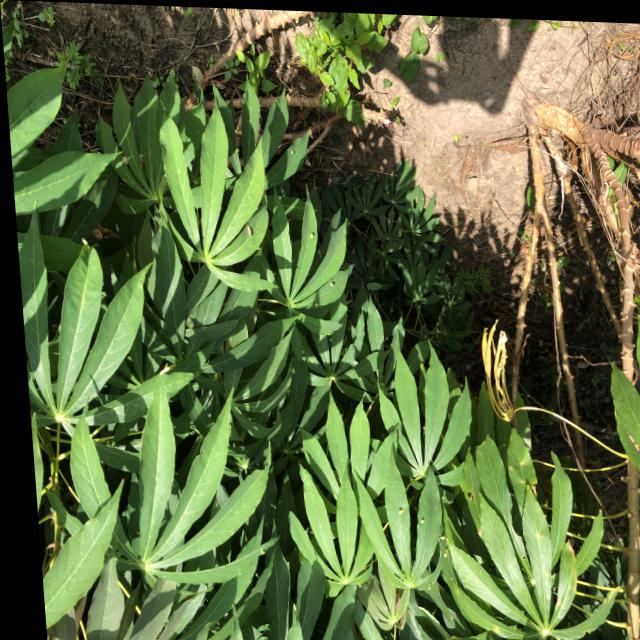Mosca: (300, 223, 324, 251), (385, 499, 415, 519), (437, 533, 454, 568), (414, 511, 436, 537), (237, 214, 257, 242), (324, 269, 343, 296), (282, 142, 298, 163)
